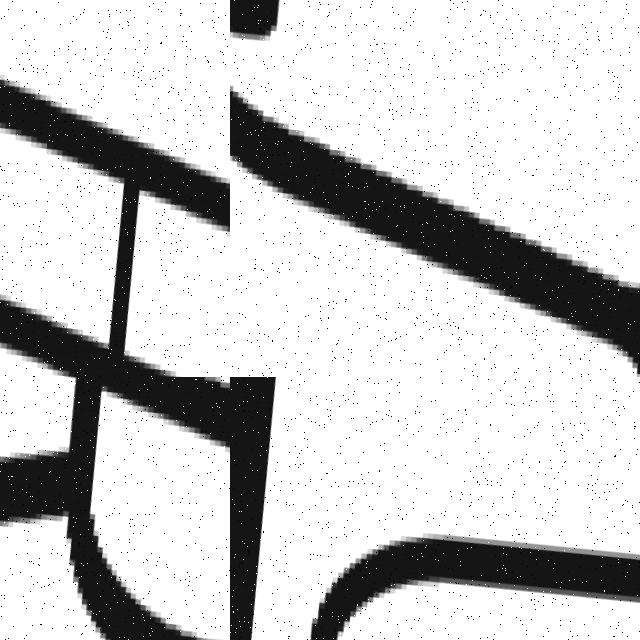H: (0, 84, 230, 377)
J: (230, 0, 640, 377)
R: (0, 377, 230, 640)
U: (262, 444, 640, 640)
